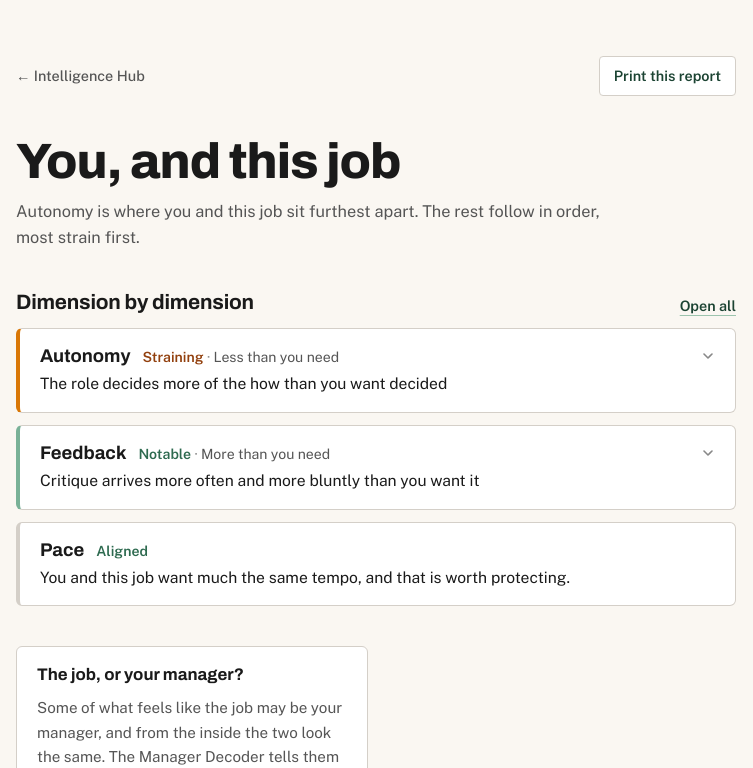
Test case: SituationReportPage › complete › renders a lone register under a plain heading, with no one-tab strip
This screenshot has width=753, height=768.
Expected: the heading "You, and this job" is shown, [16,134,400,188]
Click the button named "Show guidance for" in the row of "Less than you need".
click(378, 371)  # box [20,329,735,412]
(page scrolled)
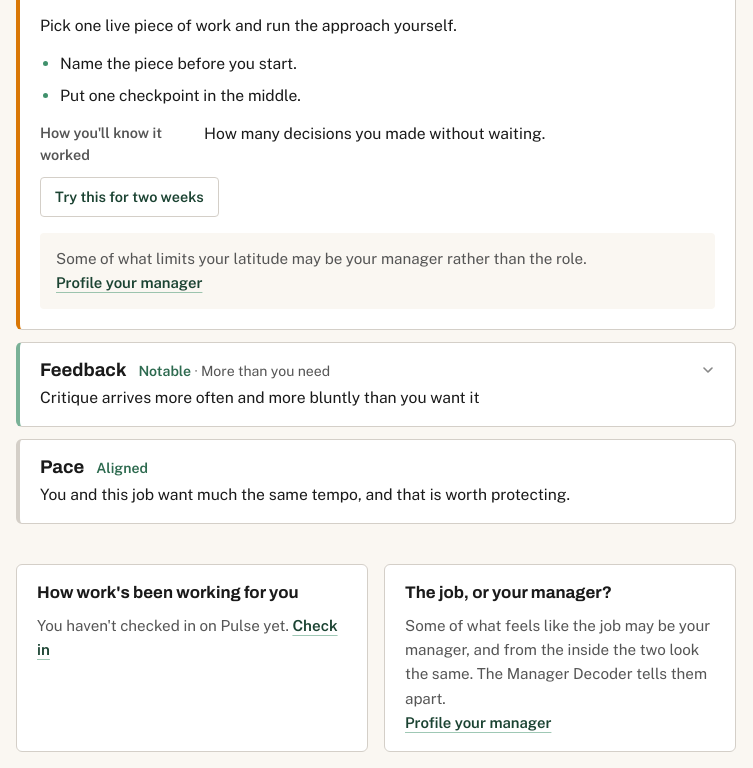
Click the button named "Show guidance for".
click(378, 384)  # box [20,343,735,426]
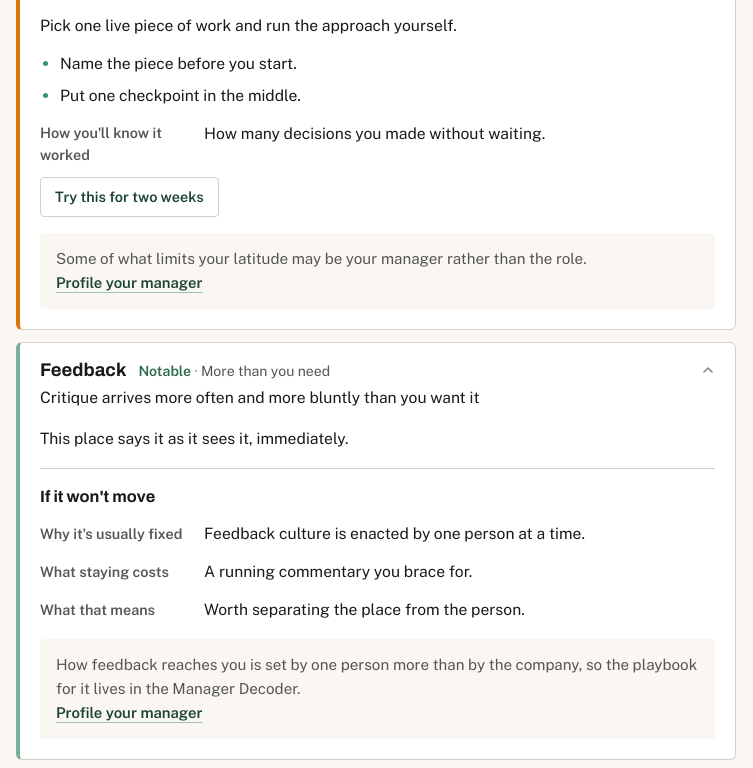
Now the heading "If it won't move" is shown, box [40,488,155,505]
Now the text "A running commentary you brace for." is shown, box [204,562,472,581]
